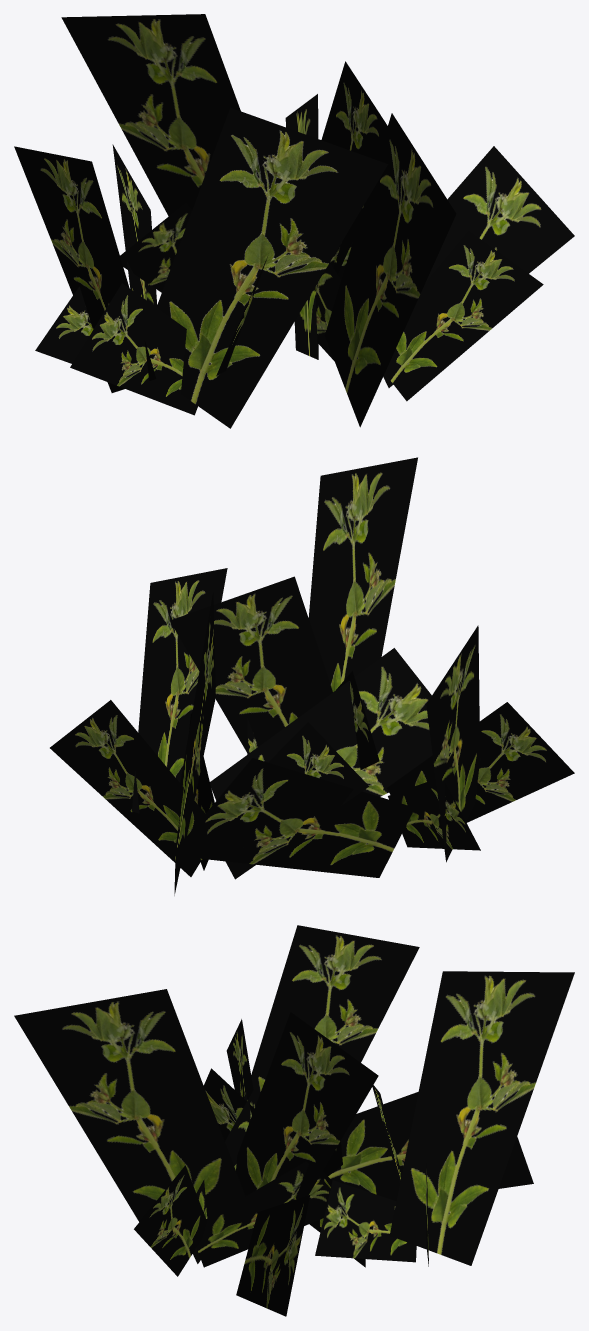
File: 09_Lotus_pedunculatus_01_small_001.fbx
3 renders of one model, top to bottom at view 1: azimuth 30°, elevation 25°; view 2: azimuth 150°, elevation 25°; view 3: azimuth 270°, elevation 25°, orthographic. The views are drawn at different scales.
Visible parts, largest first — view 1: 09_Lotus_pedunculatus_01.small.001; view 2: 09_Lotus_pedunculatus_01.small.001; view 3: 09_Lotus_pedunculatus_01.small.001.
Boxes of the visible parts, <box> form: 09_Lotus_pedunculatus_01.small.001: <box>14,14,574,428</box>; 09_Lotus_pedunculatus_01.small.001: <box>50,457,574,895</box>; 09_Lotus_pedunculatus_01.small.001: <box>14,925,574,1316</box>.
Bounding box in the file's own units: 0.2474 × 0.137 × 0.2396.
